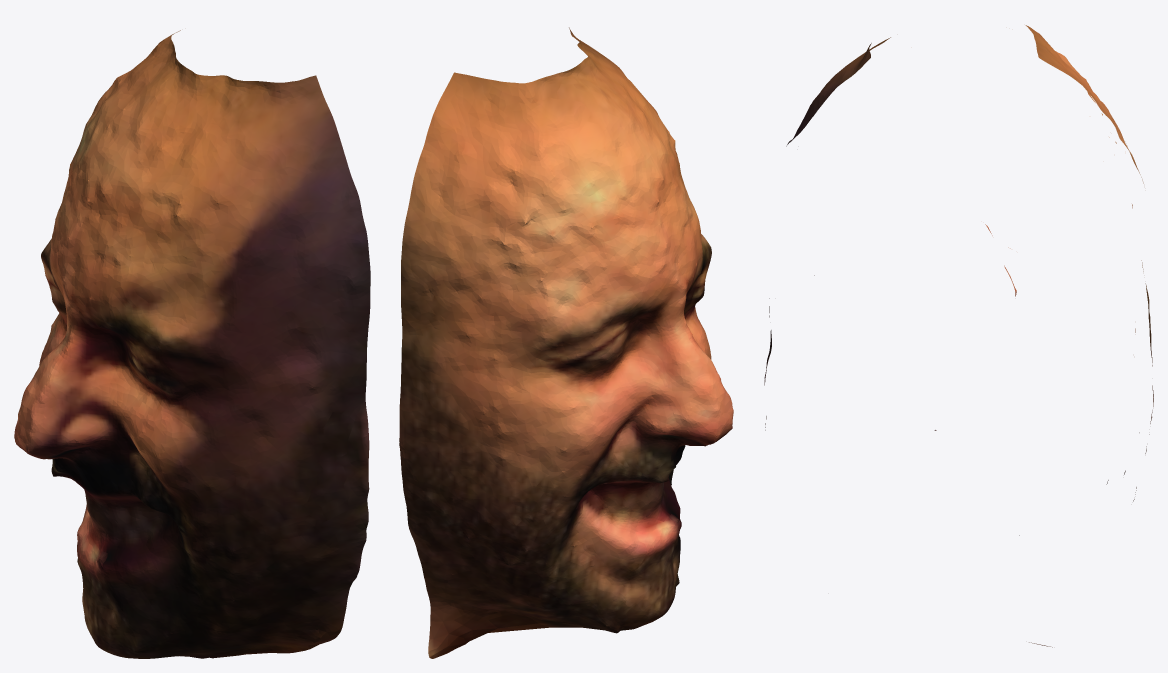
File: Faccia 0.glb
3 renders of one model, left to right at view 1: azimuth 30°, elevation 25°; view 2: azimuth 150°, elevation 25°; view 3: azimuth 270°, elevation 25°, orthographic. The views are drawn at different scales.
Visible parts, largest first — view 1: mesh; view 2: mesh; view 3: mesh.
Boxes of the visible parts, x1,y1,x2,y2 form: mesh: [14, 30, 370, 658]; mesh: [399, 27, 733, 658]; mesh: [764, 25, 1153, 647].
Bounding box in the file's own units: 0.1101 × 0.2541 × 0.1501.
Materials: 1 (1 with a texture image).
